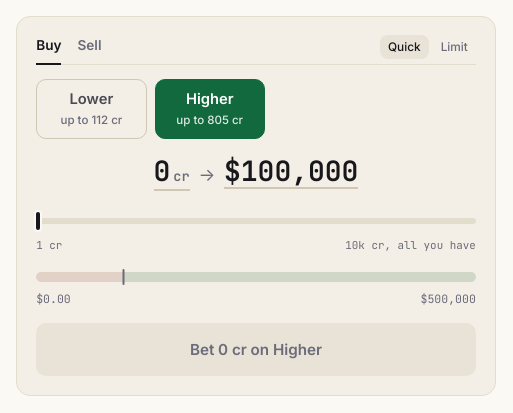
the tabs come first, and the price mode belongs to Buy › Quick and Limit are gone on the Sell tab
Expected: the button "Quick" is shown, 380,35 -> 429,59
Click the button "Sell".
click(90, 50)  # box 78,35 -> 102,65
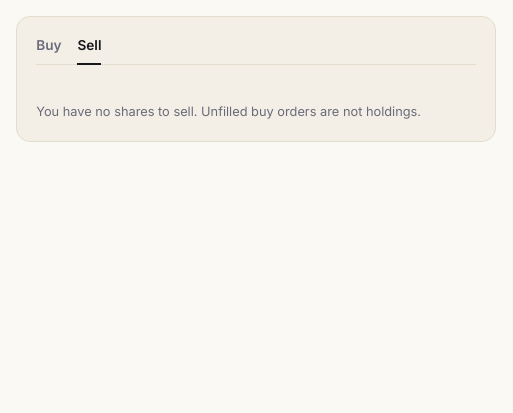
Result: the button "Quick" is gone
Result: the button "Limit" is gone
